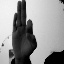f: (9, 1, 38, 57)
